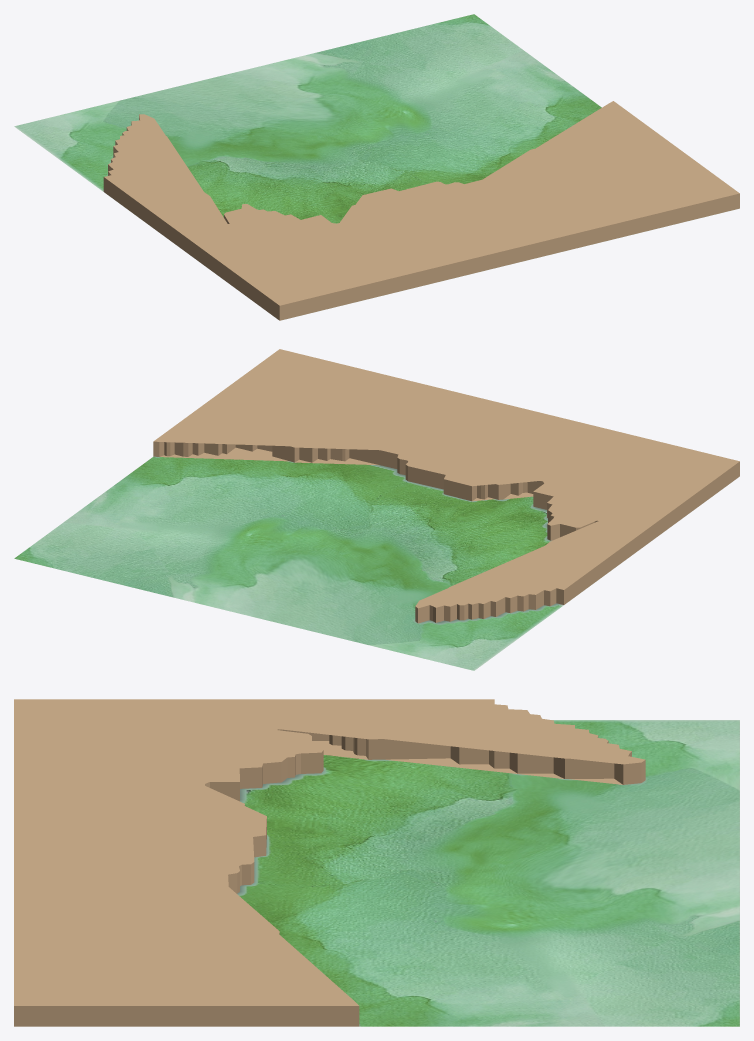
File: ground lake.fbx
The picture shows the model from 3 angles, top to bottom: view 1: azimuth 30°, elevation 25°; view 2: azimuth 150°, elevation 25°; view 3: azimuth 270°, elevation 25°; orthographic projection. The views are drawn at different scales.
Visible parts, largest first — view 1: lake, ground; view 2: lake, ground; view 3: lake, ground.
Boxes of the visible parts, left/top/right/bottom form: lake: left=14, top=14, right=729, bottom=319; ground: left=103, top=101, right=739, bottom=320; lake: left=14, top=456, right=563, bottom=670; ground: left=153, top=349, right=739, bottom=623; lake: left=237, top=720, right=739, bottom=1026; ground: left=14, top=699, right=645, bottom=1026.
Bounding box in the file's own units: 6400 × 201 × 6400.
Materials: 2 (1 with a texture image).
